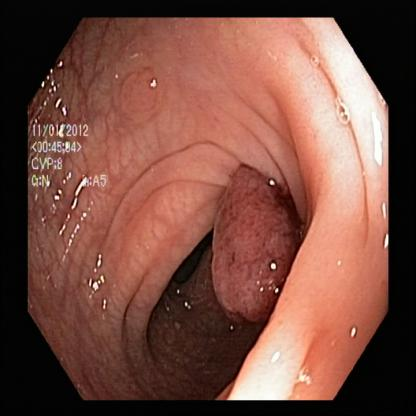Labels: (30, 113, 112, 197)
Polyps: (206, 155, 296, 313)
